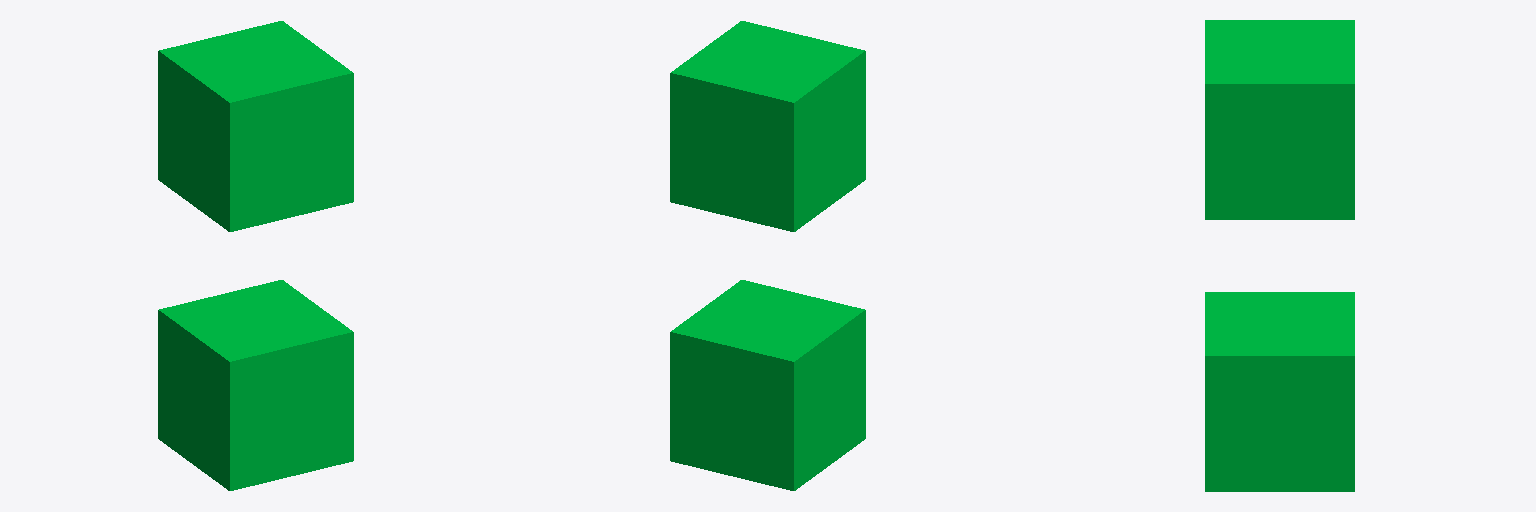
The robot description file, URDF, robot "boxes":
<robot name="boxes">

  <link name="box1">
		<visual>
		    <origin xyz="0 0 0." rpy="0 0 0"/>
			<geometry>
				<box size="1 1 1"/>
			</geometry>
			<material name="anotherOne">
	       		<color rgba="0 0.8 0.3 1.0"/>
	     	</material>
		</visual>
        <collision>
          <geometry>
				<box size="1 1 1"/>
          </geometry>
        </collision>
        <inertial>
          <mass value="1.5"/>
        <inertia ixx=".50" ixy="0.0" ixz="0" iyy=".5" iyz="0.0" izz=".5"/>
    </inertial>
  </link>

      <link name="box2">
		<visual>
		    <origin xyz="0 0 0." rpy="0 0 0"/>
			<geometry>
				<box size="1 1 1"/>
			</geometry>
			<material name="anotherOne">
	       		<color rgba="0 0.8 0.3 1.0"/>
	     	</material>
		</visual>
        <collision>
          <geometry>
				<box size="1 1 1"/>
          </geometry>
        </collision>
        <inertial>
          <mass value="1.5"/>
        <inertia ixx=".50" ixy="0.0" ixz="0" iyy=".5" iyz="0.0" izz=".5"/>
    </inertial>
  </link>
<joint name="box_link" type="fixed">
        <origin xyz="0 0 2" rpy="0 0 0"/>
       <parent link="box1"/>
       <child link="box2"/>
    </joint>
</robot>

--- What the picture shows (computed from the rendered views, not written in the file) ---
Views: 3 orthographic renders of the robot side by side, from view 1: azimuth 30°, elevation 25°; view 2: azimuth 150°, elevation 25°; view 3: azimuth 270°, elevation 25°.
Model boxes with 2 links and 1 joints (1 fixed), rooted at box1, posed all joints at 0.
Links seen in each view (by area): view 1: box1, box2; view 2: box1, box2; view 3: box1, box2.
Link boxes in pixels (x1,y1,x2,y2): box1: (158, 280, 353, 490); box2: (158, 21, 353, 231); box1: (670, 280, 865, 490); box2: (670, 21, 865, 231); box1: (1205, 292, 1354, 491); box2: (1205, 20, 1354, 219).
Size in the robot's own frame: 1 by 1 by 3 metres.
Geometry: primitives only (box / cylinder / sphere), no mesh files.